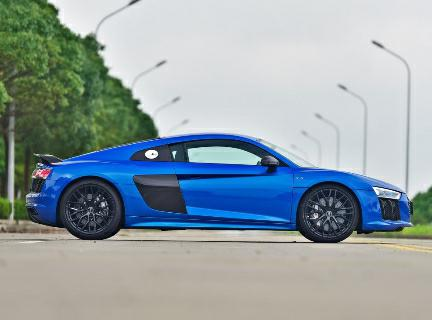奥迪-R8: (19, 128, 421, 250)
